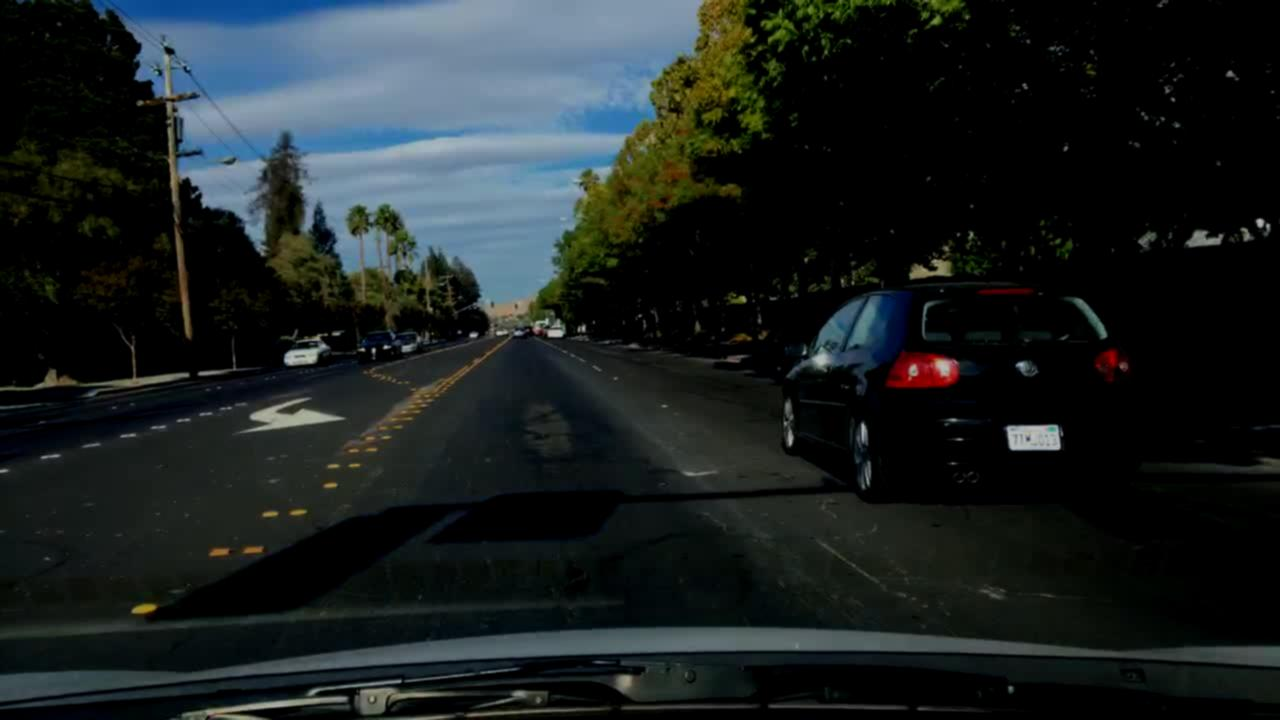Volkswagen: (1007, 352, 1045, 385)
